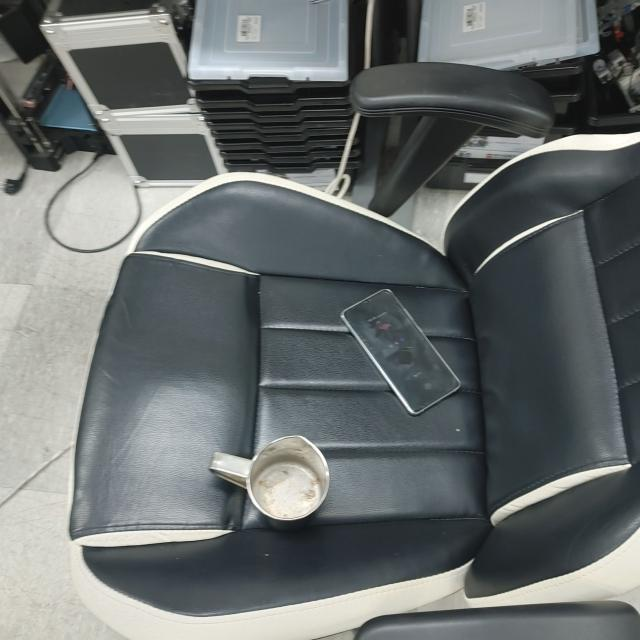cup: (208, 432, 334, 528)
phone: (339, 286, 463, 415)
